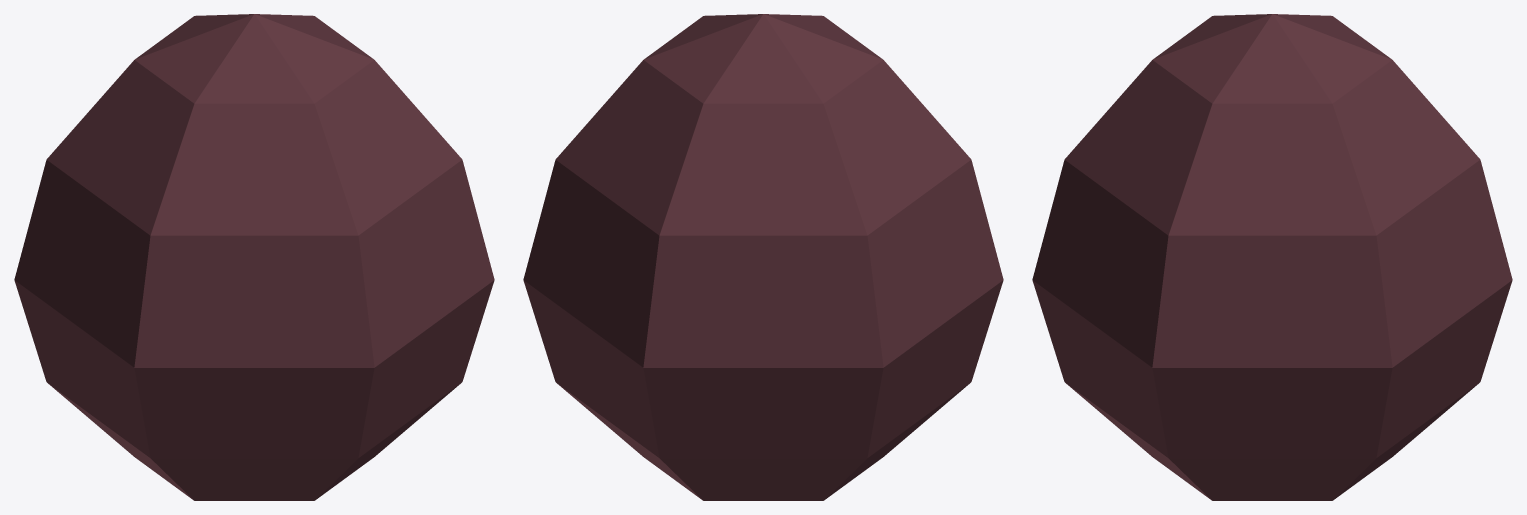
File: food-egg.glb
The picture shows the model from 3 angles, left to right: view 1: azimuth 30°, elevation 25°; view 2: azimuth 150°, elevation 25°; view 3: azimuth 270°, elevation 25°; orthographic projection.
Parts seen in each view (by area): view 1: egg; view 2: egg; view 3: egg.
Part boxes in pixels (box(x1,y1,x2,y2)): egg: box(14, 14, 494, 500); egg: box(523, 14, 1003, 500); egg: box(1032, 14, 1512, 500).
Size of the model in its own units: 0.1299 by 0.1621 by 0.15.
